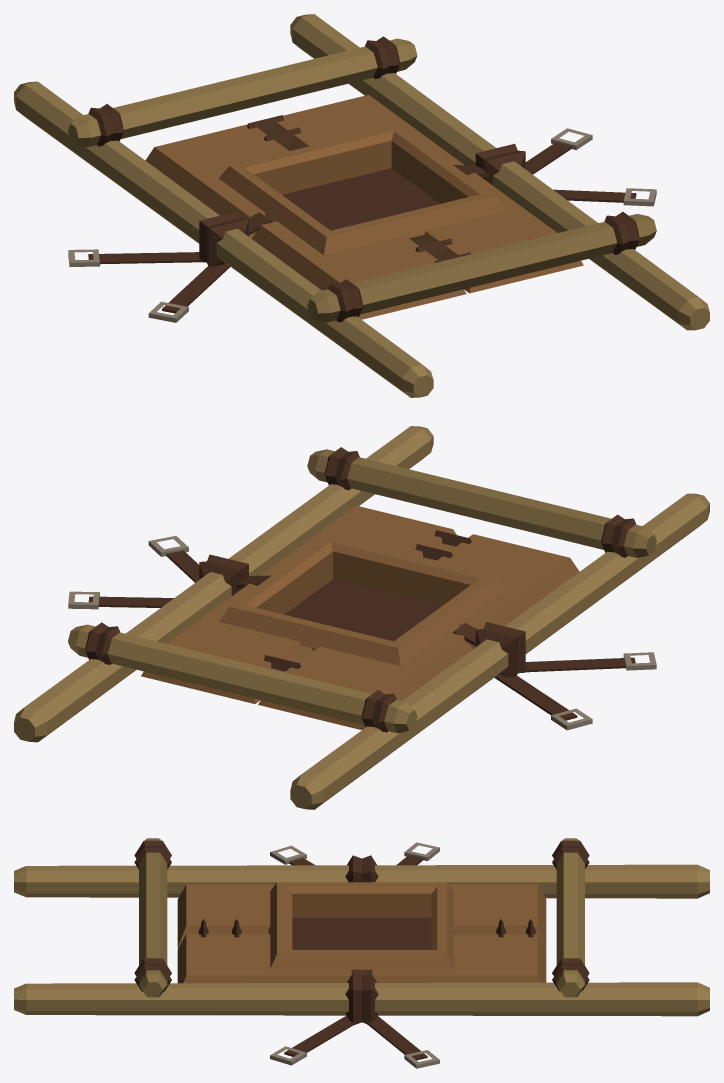
Rendered from padded-equipment-carrying-frame-d691c8.glb.
The picture shows the model from 3 angles, top to bottom: view 1: azimuth 30°, elevation 25°; view 2: azimuth 150°, elevation 25°; view 3: azimuth 270°, elevation 25°; orthographic projection. The views are drawn at different scales.
Parts seen in each view (by area): view 1: sling-mesh, frame-mesh, pole-left-mesh, pole-right-mesh, straps-mesh; view 2: sling-mesh, frame-mesh, pole-left-mesh, pole-right-mesh, straps-mesh; view 3: sling-mesh, pole-right-mesh, pole-left-mesh, frame-mesh, straps-mesh.
Boxes of the visible parts, x1,y1,x2,y2 form: sling-mesh: [145, 95, 583, 319]; frame-mesh: [68, 36, 656, 322]; pole-left-mesh: [14, 81, 433, 397]; pole-right-mesh: [290, 14, 709, 330]; straps-mesh: [68, 128, 656, 322]; sling-mesh: [141, 505, 579, 729]; frame-mesh: [68, 447, 656, 733]; pole-left-mesh: [290, 493, 709, 809]; pole-right-mesh: [14, 426, 433, 742]; straps-mesh: [68, 536, 656, 730]; sling-mesh: [177, 882, 546, 983]; pole-right-mesh: [14, 969, 709, 1024]; pole-left-mesh: [14, 855, 709, 898]; frame-mesh: [134, 838, 589, 997]; straps-mesh: [270, 842, 439, 1068].
Size of the model in its own units: 1.51 by 0.176 by 2.
